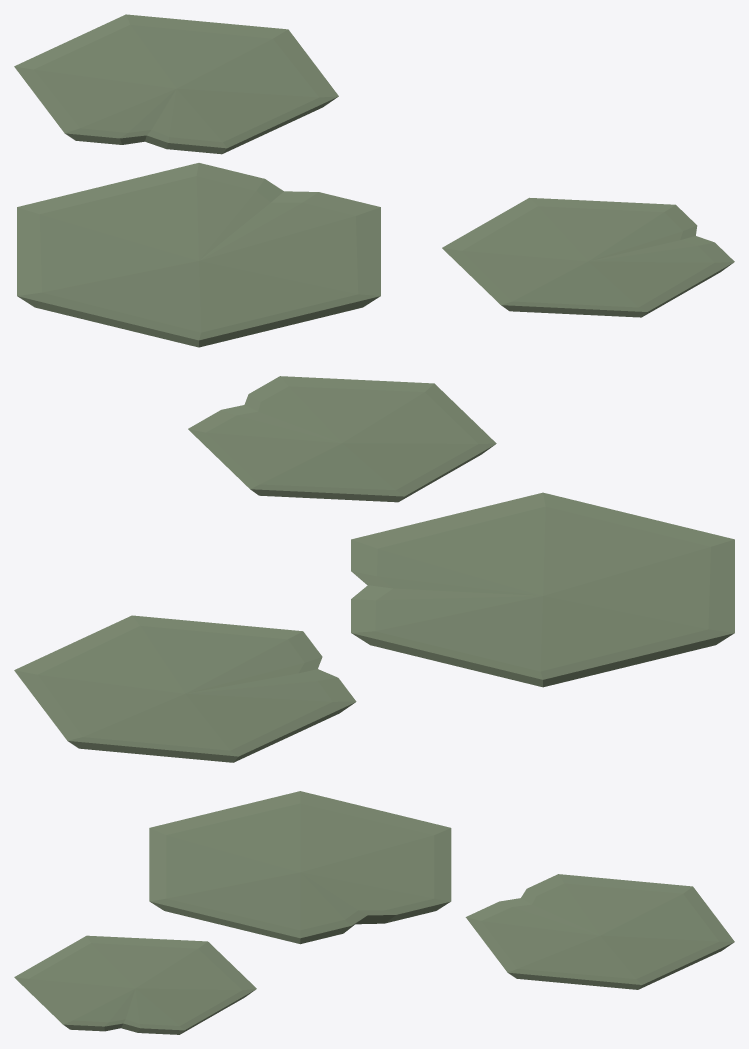
Rendered from Water Lily Harvested.fbx.
3 views of the same model, one above another, from view 1: azimuth 30°, elevation 25°; view 2: azimuth 150°, elevation 25°; view 3: azimuth 270°, elevation 25° (orthographic). The views are drawn at different scales.
Parts seen in each view (by area): view 1: pCylinder5; view 2: pCylinder5; view 3: pCylinder5.
Part boxes in pixels (x1=…): pCylinder5: x1=14, y1=14, x2=734, y2=347; pCylinder5: x1=14, y1=376, x2=734, y2=762; pCylinder5: x1=14, y1=791, x2=734, y2=1034.
Bounding box in the file's own units: 1.07 × 0.0275 × 1.36.
